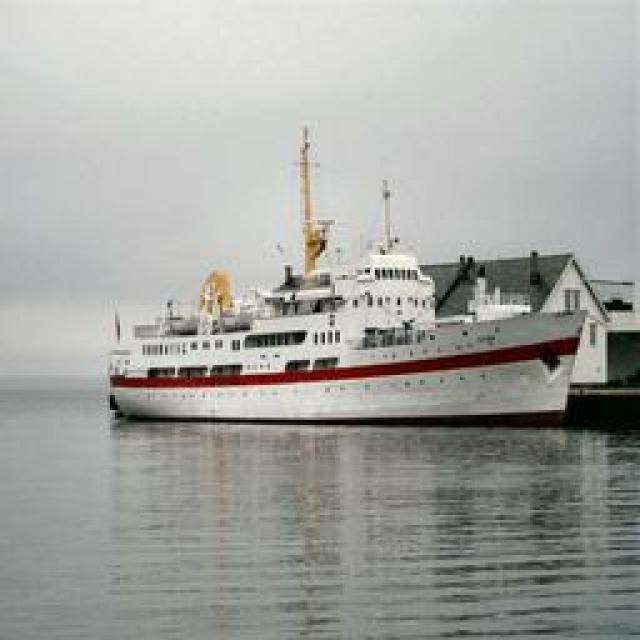ship2: (108, 125, 584, 429)
